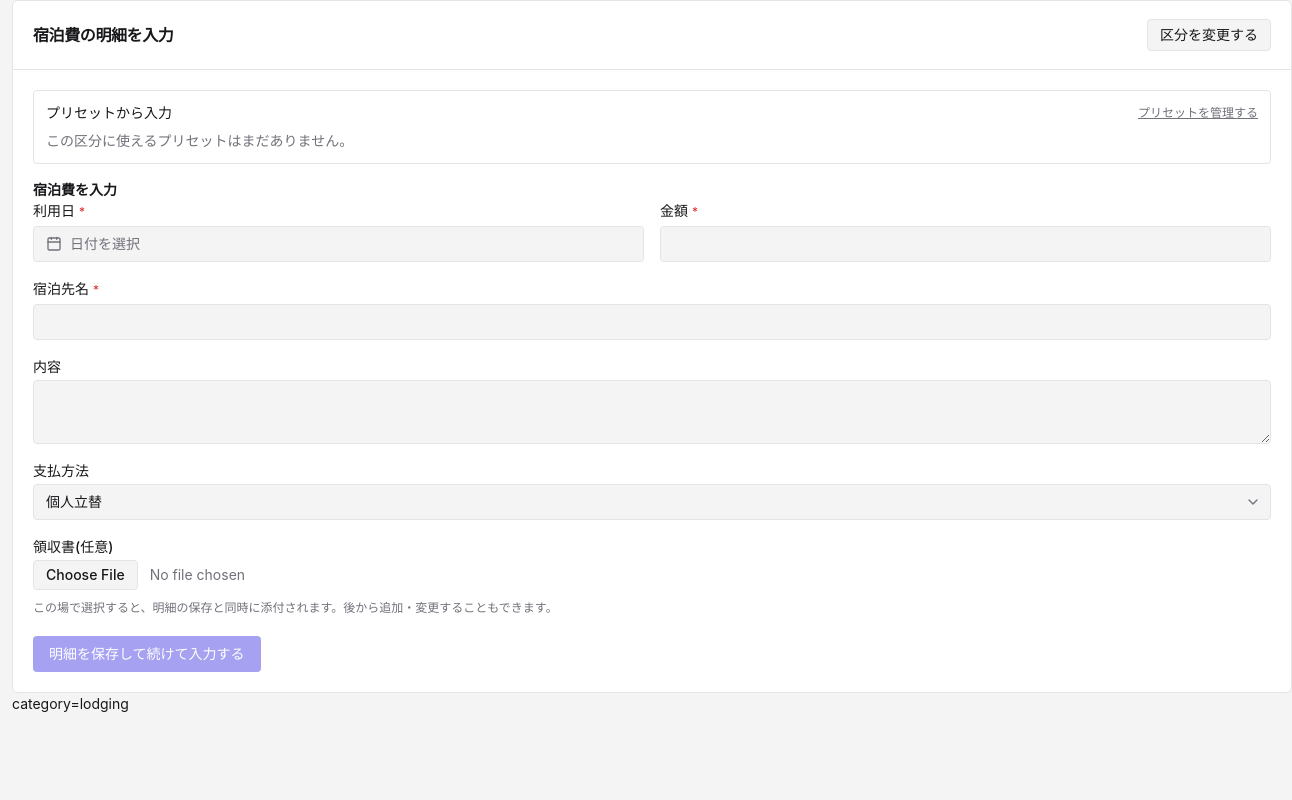
Test: ExpenseClaimNewPage › lets the user go back to category selection via 区分を変更する before anything is saved
The width and height of the screenshot is (1292, 800).
Check: the button named "利用日" is shown, box [33, 226, 644, 262]
Click the button "区分を変更する": (1209, 35) [1147, 19, 1271, 51]
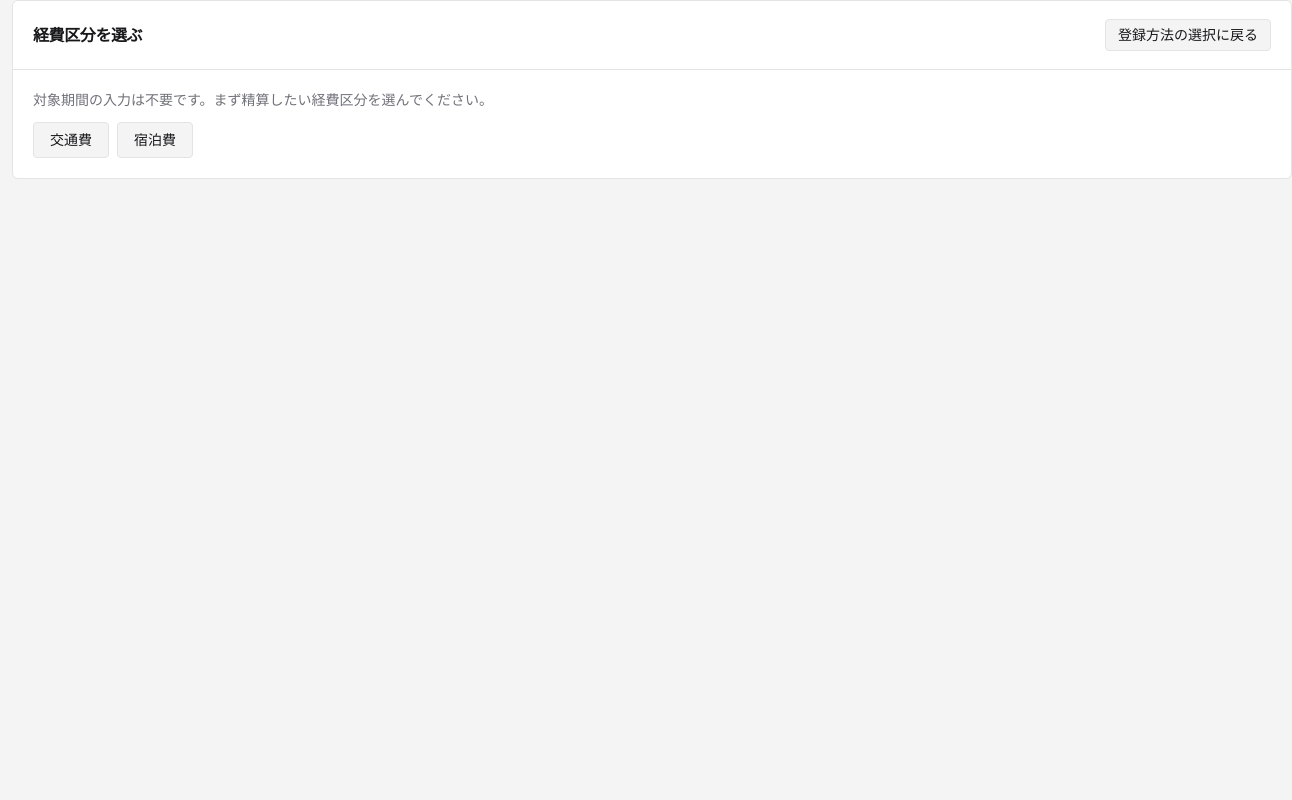
Check: the button "宿泊費" is shown, box [117, 122, 193, 158]
Check: the button "交通費" is shown, box [33, 122, 109, 158]
